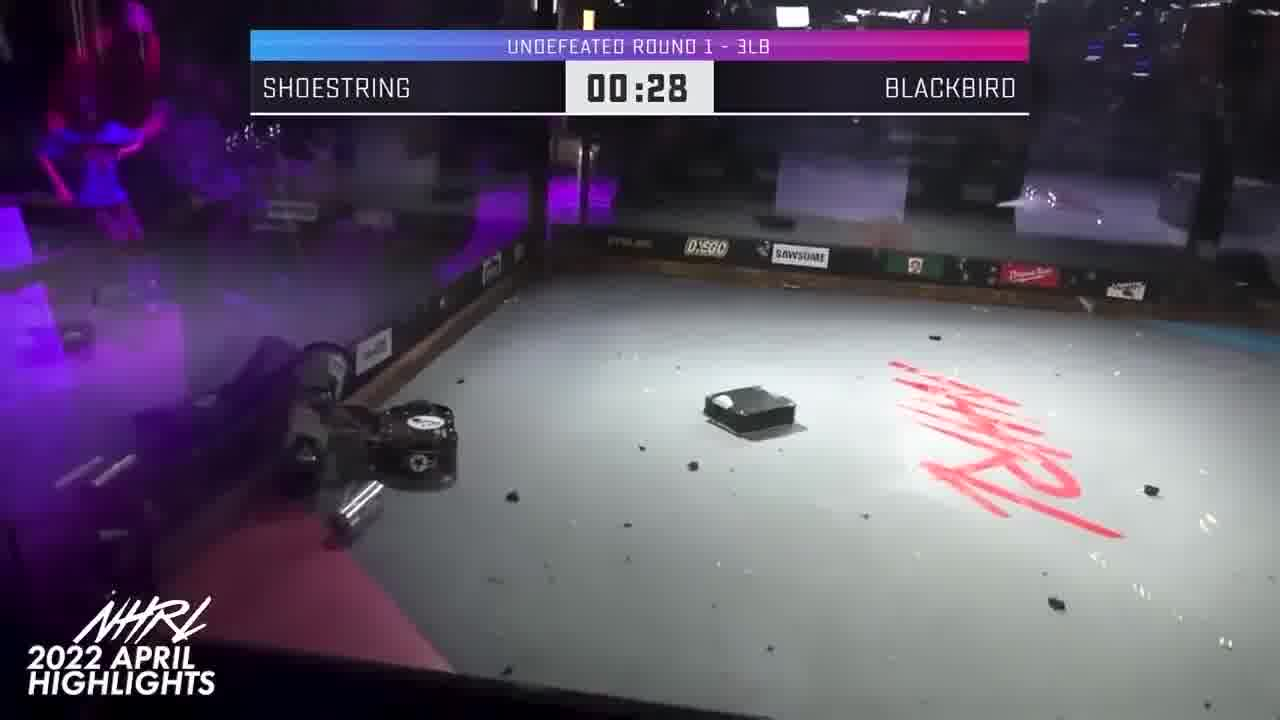combatbot: (278, 340, 370, 492), (370, 400, 462, 488), (701, 385, 804, 441)
debris: (322, 478, 387, 537)
